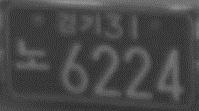1: (126, 12, 145, 40)
2: (123, 46, 153, 100), (91, 44, 121, 97)
3: (104, 11, 123, 39)
4: (156, 48, 185, 101)
6: (60, 41, 89, 94)
경기_O: (56, 11, 102, 37)
노: (14, 38, 51, 72)
